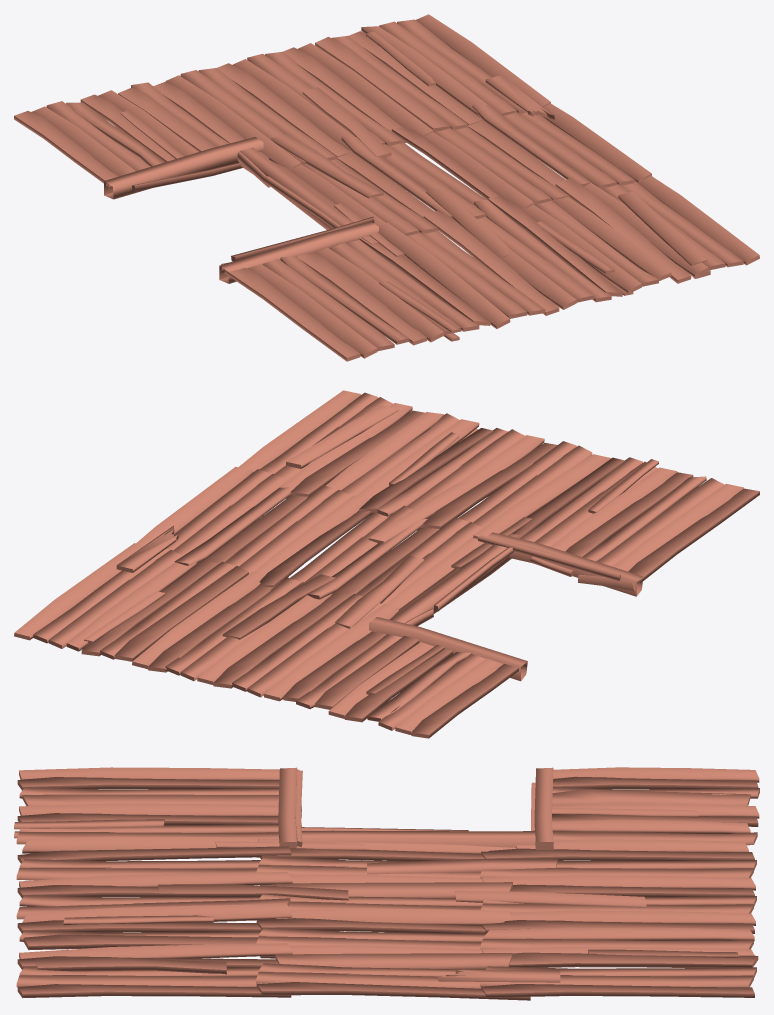
The model's file is floor_03.fbx.
The picture shows the model from 3 angles, top to bottom: view 1: azimuth 30°, elevation 25°; view 2: azimuth 150°, elevation 25°; view 3: azimuth 270°, elevation 25°; orthographic projection. The views are drawn at different scales.
Visible parts, largest first — view 1: Plane.032; view 2: Plane.032; view 3: Plane.032.
Part boxes in pixels (x1=…): Plane.032: x1=14, y1=14, x2=759, y2=361; Plane.032: x1=14, y1=390, x2=759, y2=738; Plane.032: x1=14, y1=767, x2=759, y2=1000.
Size of the model in its own units: 7.88 by 0.4333 by 10.98.
